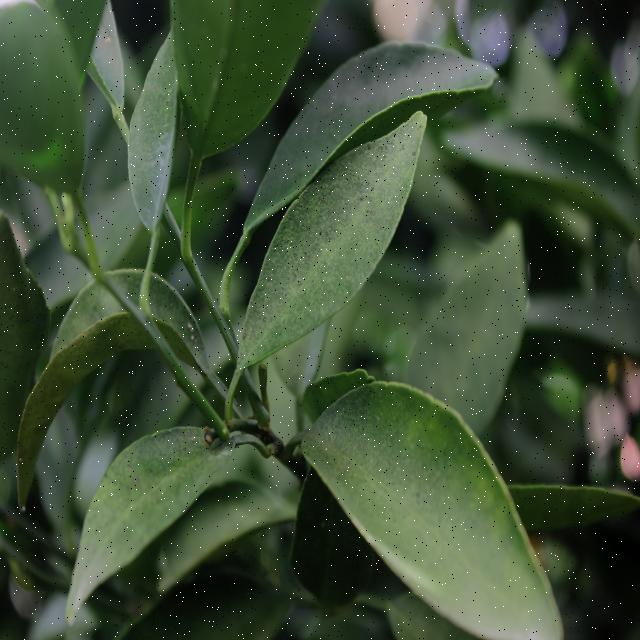blackspot: (234, 116, 422, 368), (331, 408, 468, 594), (84, 426, 204, 590)
